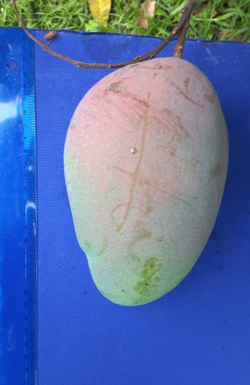Mango-sano: (64, 57, 227, 305)
